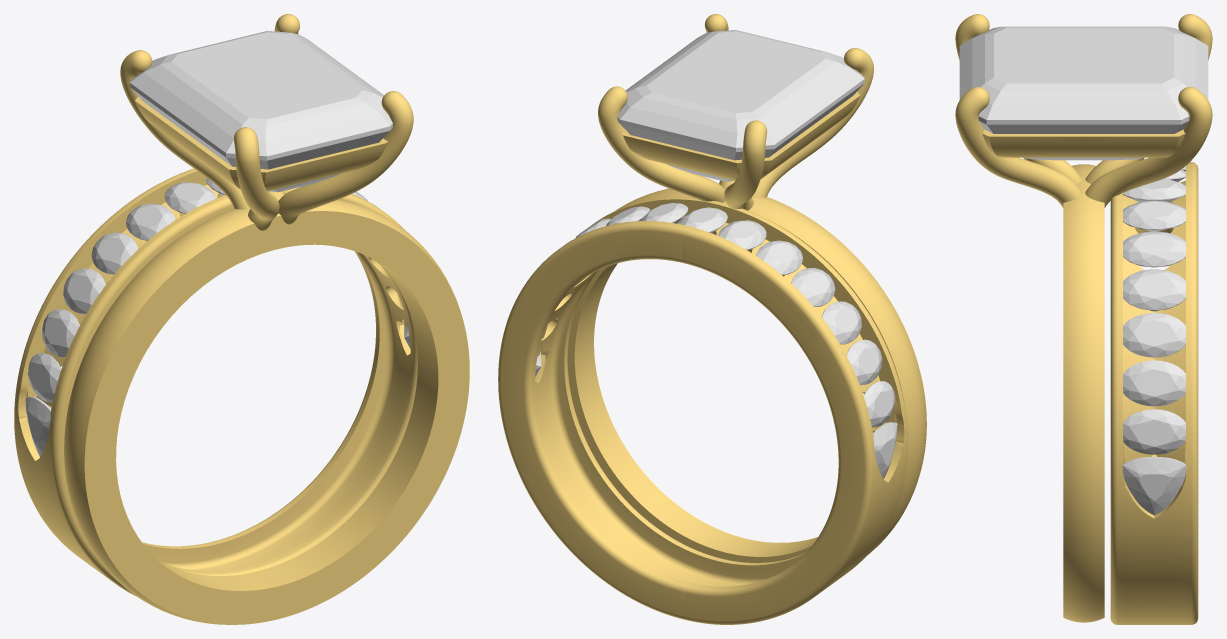
Rendered from AlexNBOTHyg_blender.glb.
3 renders of one model, left to right at view 1: azimuth 30°, elevation 25°; view 2: azimuth 150°, elevation 25°; view 3: azimuth 270°, elevation 25°, orthographic. The views are drawn at different scales.
Parts seen in each view (by area): view 1: Alex both YG for 3d model, Alex both dia for 3d model, Alex both dia for 3d model.013, Alex both dia for 3d model.012, Alex both dia for 3d model.014, Alex both dia for 3d model.011, Alex both dia for 3d model.015, Alex both dia for 3d model.010, Alex both dia for 3d model.002; view 2: Alex both YG for 3d model, Alex both dia for 3d model, Alex both dia for 3d model.013, Alex both dia for 3d model.012, Alex both dia for 3d model.014, Alex both dia for 3d model.011, Alex both dia for 3d model.015, Alex both dia for 3d model.010, Alex both dia for 3d model.002, Alex both dia for 3d model.009, Alex both dia for 3d model.008; view 3: Alex both YG for 3d model, Alex both dia for 3d model, Alex both dia for 3d model.001, Alex both dia for 3d model.004, Alex both dia for 3d model.003, Alex both dia for 3d model.005, Alex both dia for 3d model.006, Alex both dia for 3d model.007, Alex both dia for 3d model.008, Alex both dia for 3d model.009.
Boxes of the visible parts, x1=… form: Alex both YG for 3d model: x1=14, y1=14, x2=469, y2=624; Alex both dia for 3d model: x1=130, y1=30, x2=392, y2=192; Alex both dia for 3d model.013: x1=63, y1=268, x2=105, y2=313; Alex both dia for 3d model.012: x1=91, y1=232, x2=138, y2=274; Alex both dia for 3d model.014: x1=42, y1=309, x2=79, y2=357; Alex both dia for 3d model.011: x1=126, y1=203, x2=175, y2=240; Alex both dia for 3d model.015: x1=28, y1=353, x2=61, y2=402; Alex both dia for 3d model.010: x1=164, y1=182, x2=216, y2=213; Alex both dia for 3d model.002: x1=25, y1=396, x2=51, y2=456; Alex both YG for 3d model: x1=498, y1=14, x2=926, y2=624; Alex both dia for 3d model: x1=617, y1=30, x2=864, y2=181; Alex both dia for 3d model.013: x1=822, y1=301, x2=861, y2=344; Alex both dia for 3d model.012: x1=791, y1=268, x2=835, y2=306; Alex both dia for 3d model.014: x1=846, y1=339, x2=881, y2=384; Alex both dia for 3d model.011: x1=756, y1=240, x2=802, y2=275; Alex both dia for 3d model.015: x1=863, y1=381, x2=895, y2=427; Alex both dia for 3d model.010: x1=718, y1=220, x2=766, y2=249; Alex both dia for 3d model.002: x1=873, y1=422, x2=897, y2=478; Alex both dia for 3d model.009: x1=679, y1=207, x2=727, y2=233; Alex both dia for 3d model.008: x1=641, y1=203, x2=688, y2=223; Alex both YG for 3d model: x1=955, y1=14, x2=1212, y2=624; Alex both dia for 3d model: x1=959, y1=26, x2=1208, y2=160; Alex both dia for 3d model.001: x1=1122, y1=457, x2=1185, y2=515; Alex both dia for 3d model.004: x1=1123, y1=360, x2=1185, y2=406; Alex both dia for 3d model.003: x1=1123, y1=409, x2=1185, y2=454; Alex both dia for 3d model.005: x1=1123, y1=313, x2=1185, y2=357; Alex both dia for 3d model.006: x1=1123, y1=269, x2=1185, y2=310; Alex both dia for 3d model.007: x1=1123, y1=231, x2=1185, y2=267; Alex both dia for 3d model.008: x1=1123, y1=201, x2=1185, y2=231; Alex both dia for 3d model.009: x1=1123, y1=178, x2=1185, y2=202.
Bounding box in the file's own units: 20.1 × 26.42 × 11.16.
